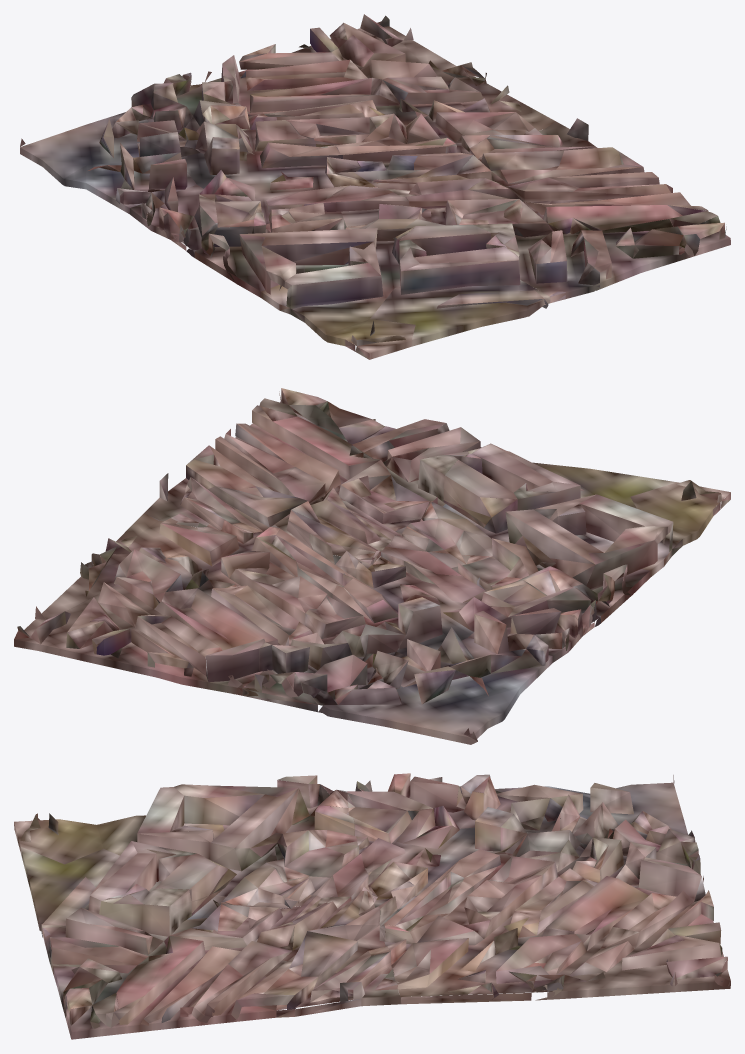
The picture shows the model from 3 angles, top to bottom: view 1: azimuth 30°, elevation 25°; view 2: azimuth 150°, elevation 25°; view 3: azimuth 270°, elevation 25°; orthographic projection. The views are drawn at different scales.
Visible parts, largest first — view 1: Mesh_0; view 2: Mesh_0; view 3: Mesh_0.
Part boxes in pixels (x1,y1,x2,y2): Mesh_0: (20, 14, 730, 359); Mesh_0: (14, 388, 730, 744); Mesh_0: (14, 773, 730, 1039).
Size of the model in its own units: 540 by 59.23 by 659.
2 materials, 2 textured.
